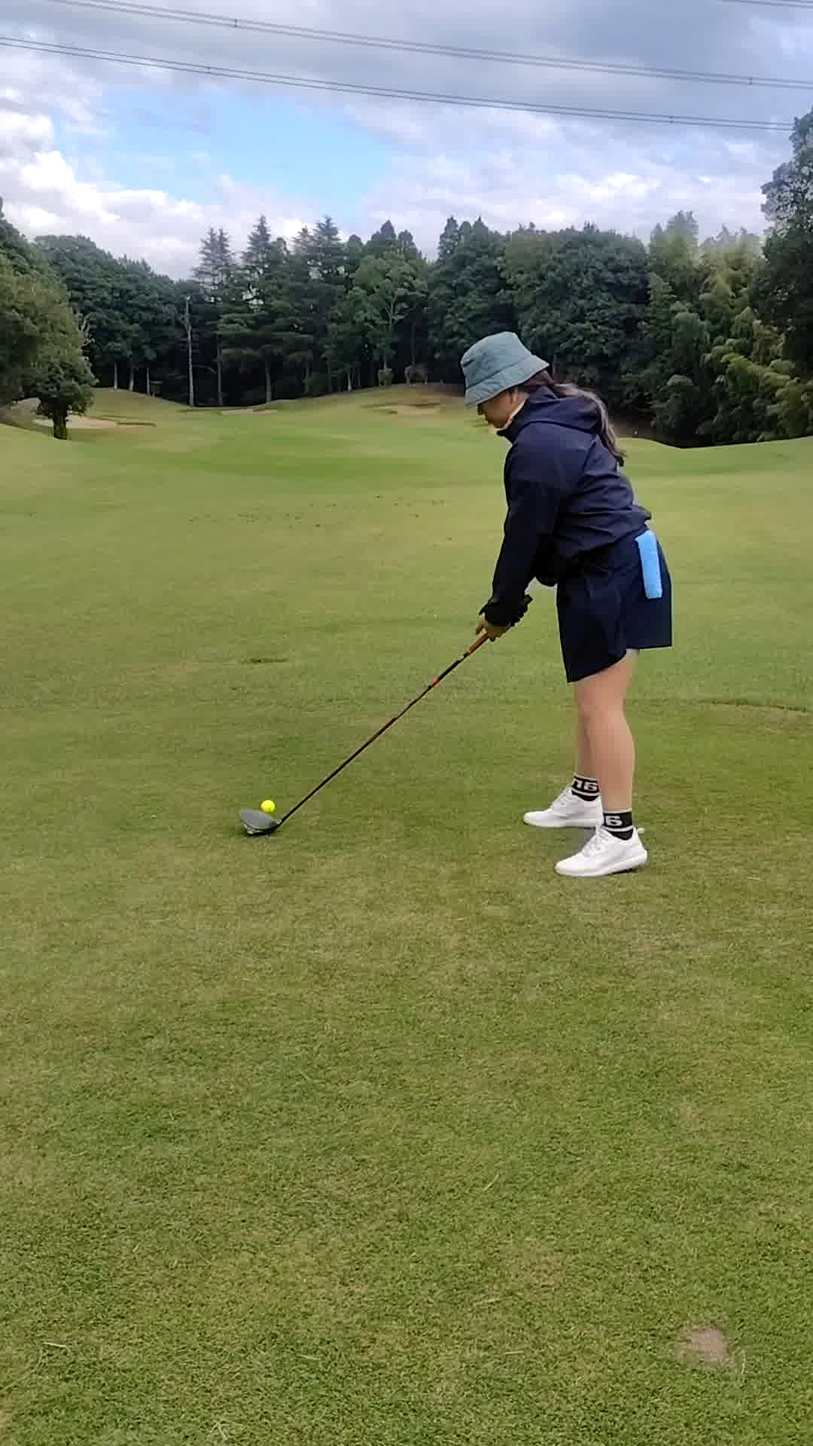clubhead: (112, 689, 397, 937)
